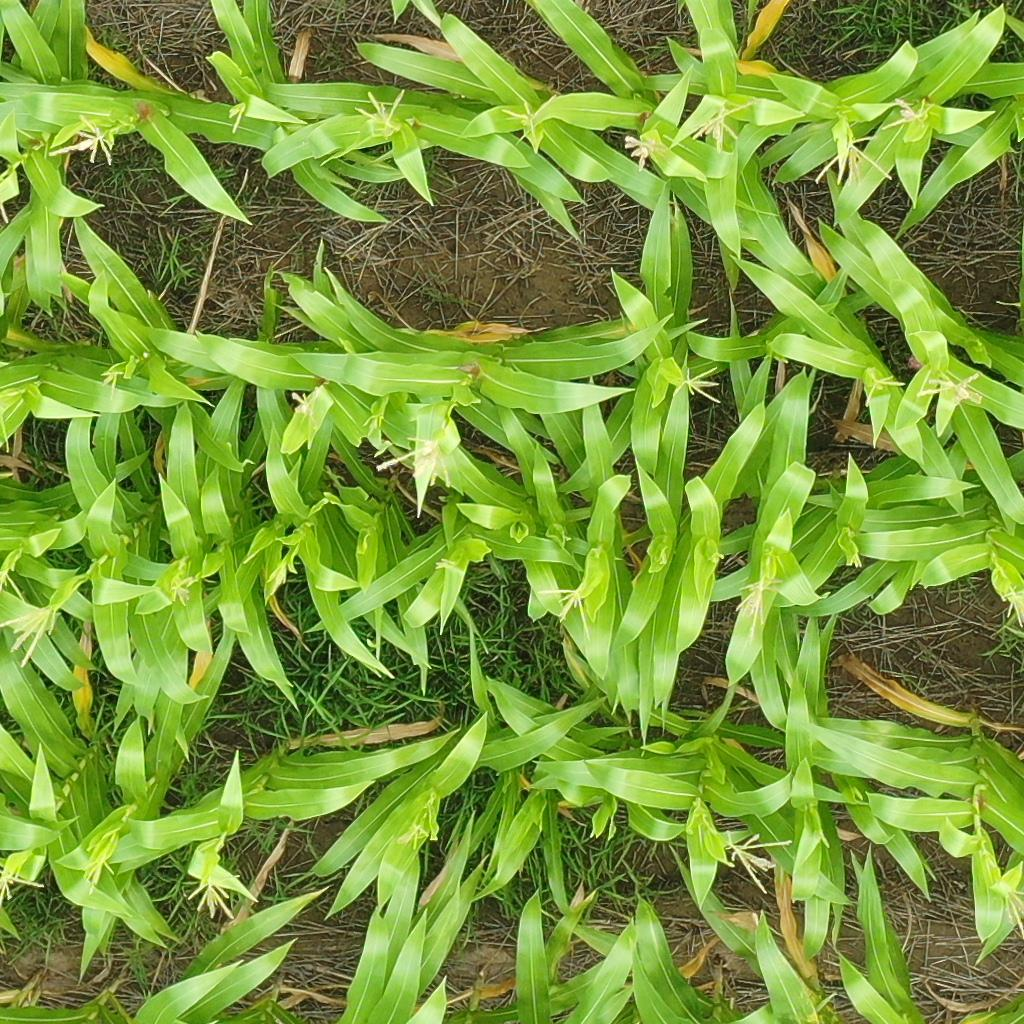Tassel: (815, 117, 895, 189), (721, 827, 792, 895), (375, 432, 452, 489), (1, 600, 59, 671), (43, 114, 120, 166), (733, 569, 782, 642), (190, 858, 242, 925), (694, 97, 754, 152), (536, 583, 593, 638), (916, 362, 987, 405), (501, 89, 558, 141), (352, 87, 407, 140), (671, 362, 731, 410), (880, 93, 935, 130), (863, 368, 907, 407), (288, 383, 325, 426), (1, 868, 45, 904), (81, 851, 115, 897), (168, 563, 202, 608), (621, 132, 662, 168), (998, 577, 1023, 630), (394, 819, 433, 851), (1001, 888, 1024, 935), (97, 367, 127, 399), (1, 559, 23, 602), (267, 559, 291, 595), (225, 102, 249, 134), (432, 557, 466, 577), (363, 414, 386, 438), (654, 543, 672, 567), (762, 546, 781, 566), (848, 547, 864, 570), (709, 550, 723, 566)
